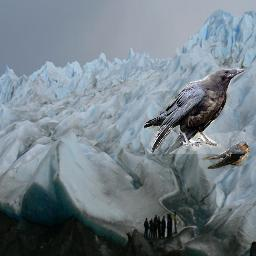Crow: (143, 68, 245, 154)
Swallow: (198, 140, 249, 169)
